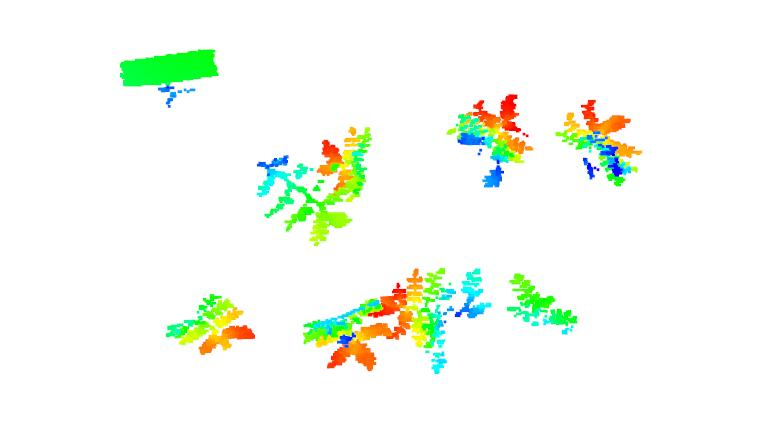chickpea: (379, 266, 491, 373), (254, 153, 352, 248), (448, 89, 530, 190), (555, 95, 642, 185), (302, 294, 389, 374), (162, 293, 260, 356), (505, 270, 582, 337), (315, 124, 372, 199)
